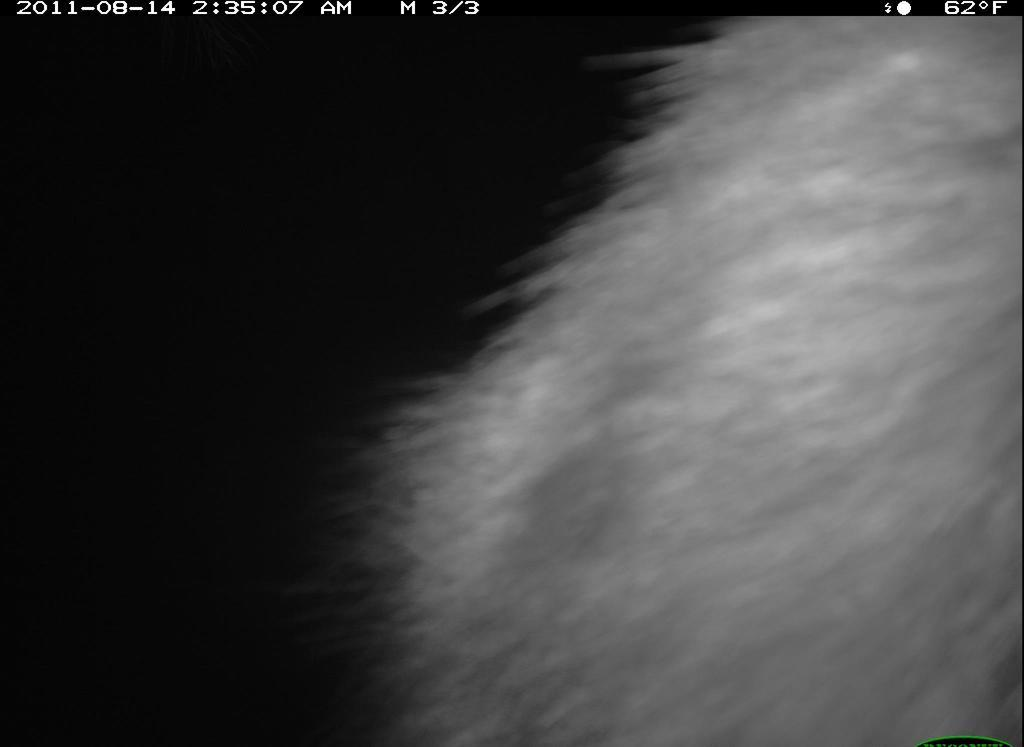raccoon: (328, 16, 1023, 747)
